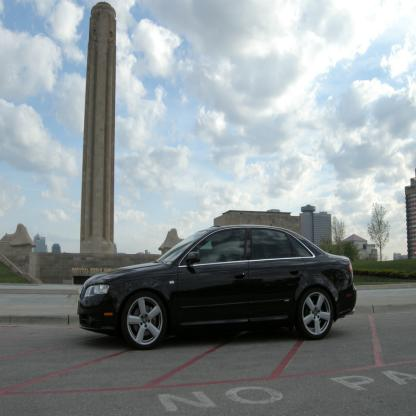Car: (78, 225, 358, 351)
